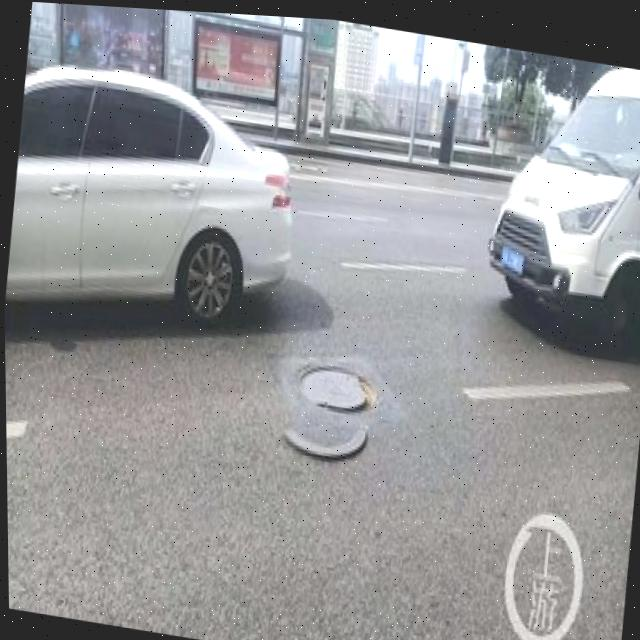manhole: (279, 346, 383, 417)
